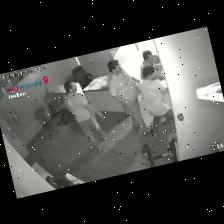person: (107, 60, 151, 133), (63, 81, 104, 152), (138, 65, 172, 137), (140, 51, 164, 80)
